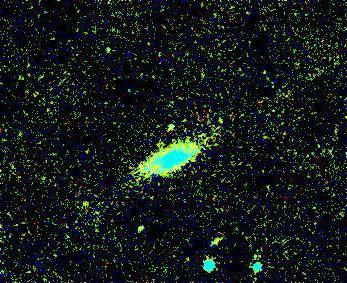star: (172, 238, 202, 268)
